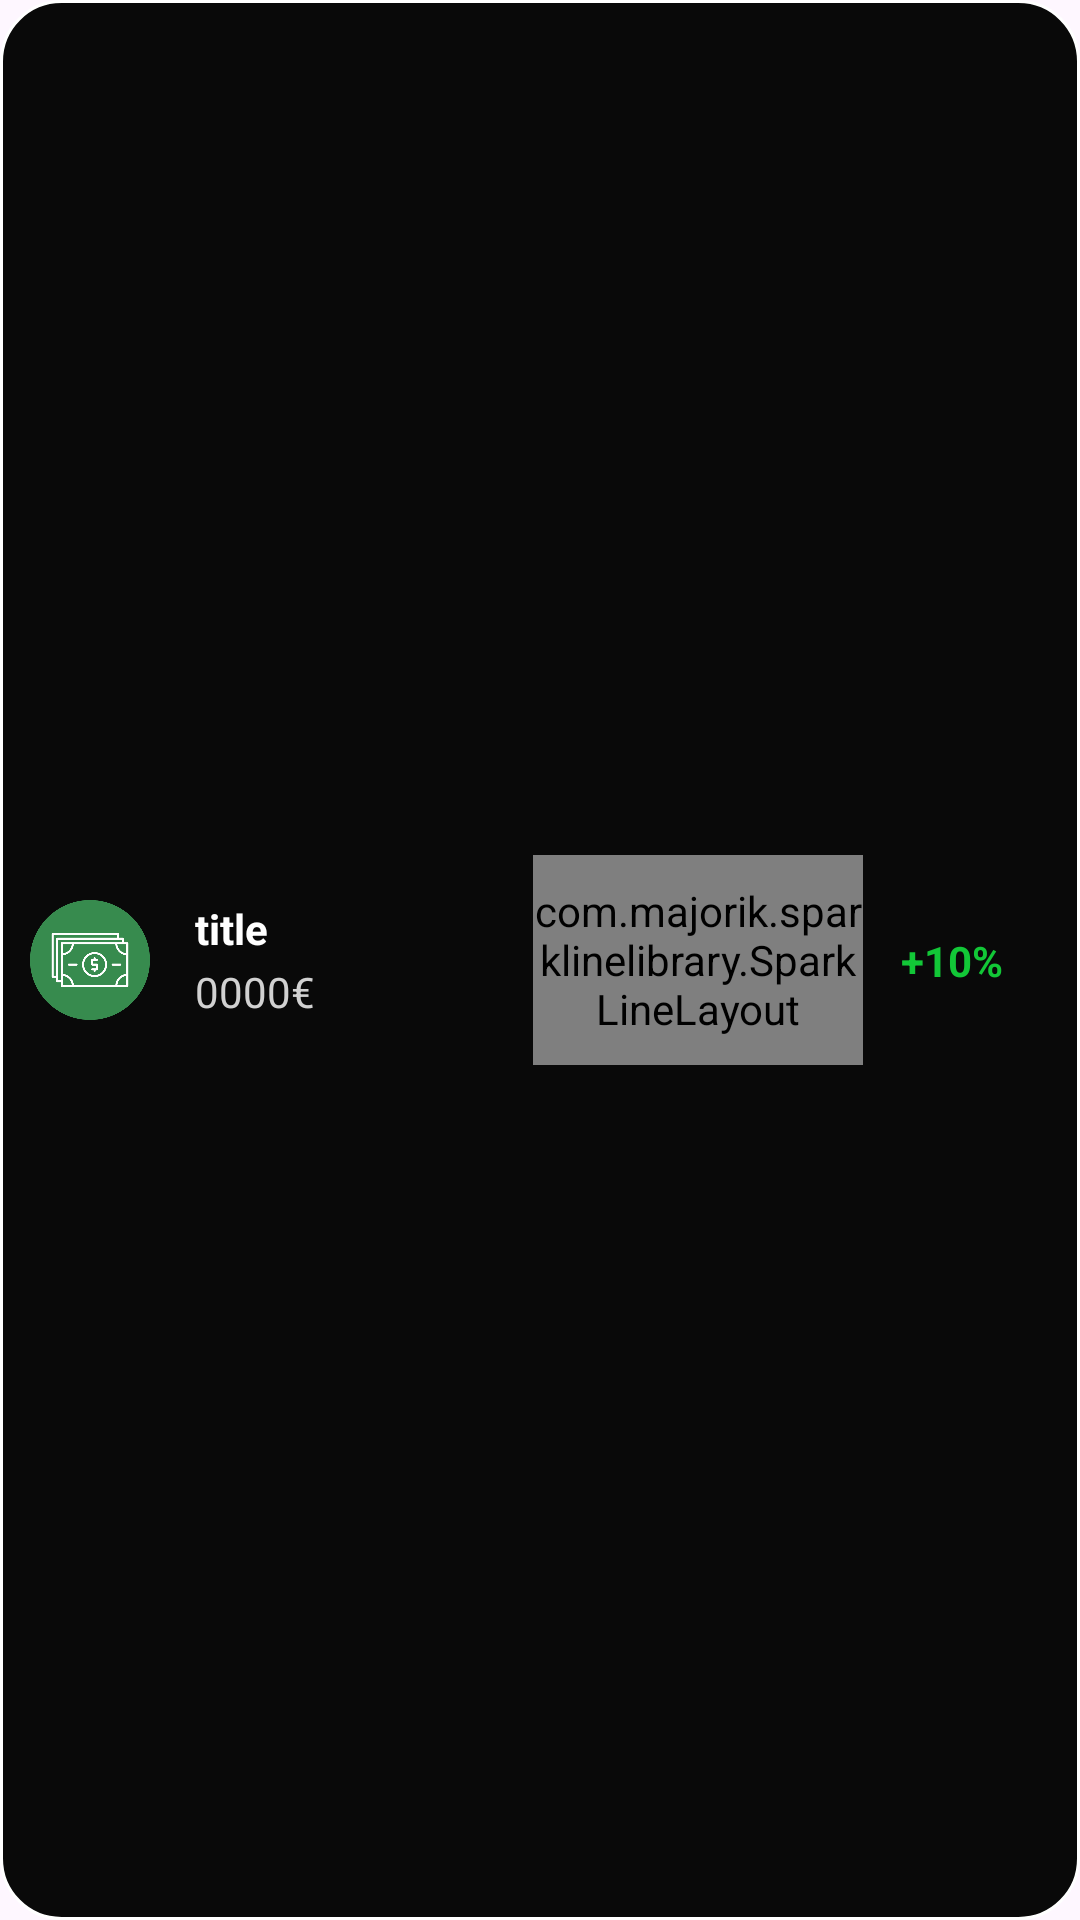

Locate icon controls on the screen. Image size 1080×1920, boxes as box=[x1, y1, x2, y2].
cash: box=[30, 900, 150, 1020]
